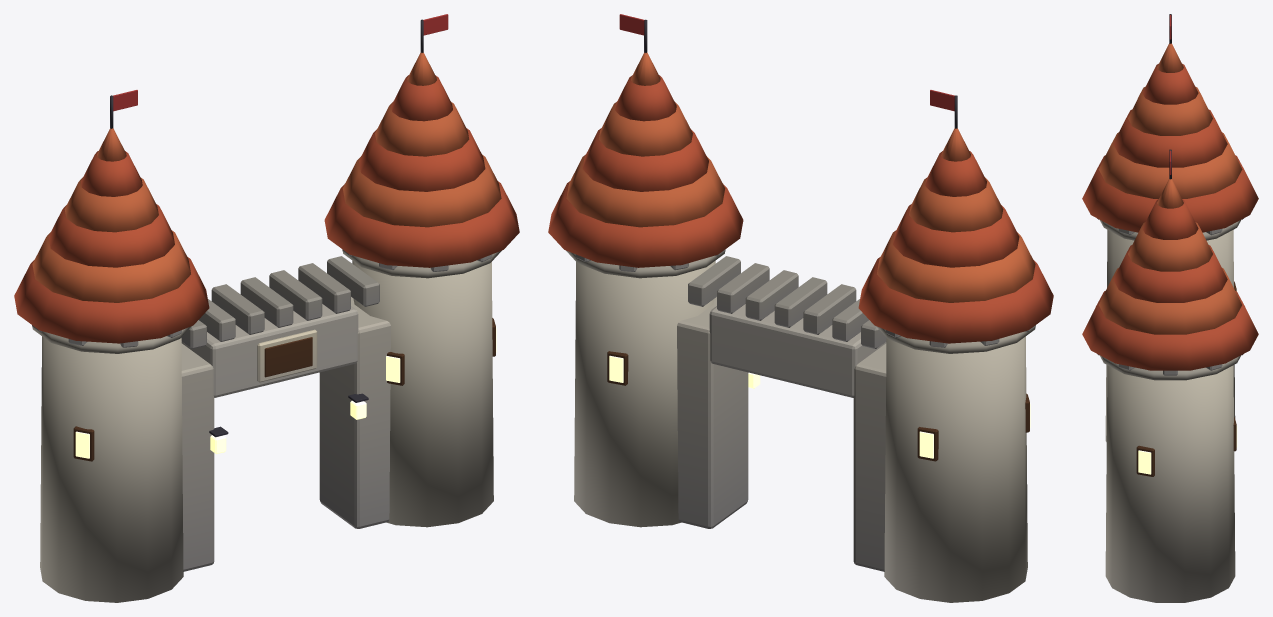
The model's file is gate_towers.glb.
3 views of the same model, side by side, from view 1: azimuth 30°, elevation 25°; view 2: azimuth 150°, elevation 25°; view 3: azimuth 270°, elevation 25° (orthographic). The views are drawn at different scales.
Parts seen in each view (by area): view 1: gate_towers; view 2: gate_towers; view 3: gate_towers.
Boxes of the visible parts, x1,y1,x2,y2 form: gate_towers: (14,14,519,602); gate_towers: (548,14,1053,602); gate_towers: (1082,14,1258,602).
Bounding box in the file's own units: 12.91 × 12.32 × 4.63.
